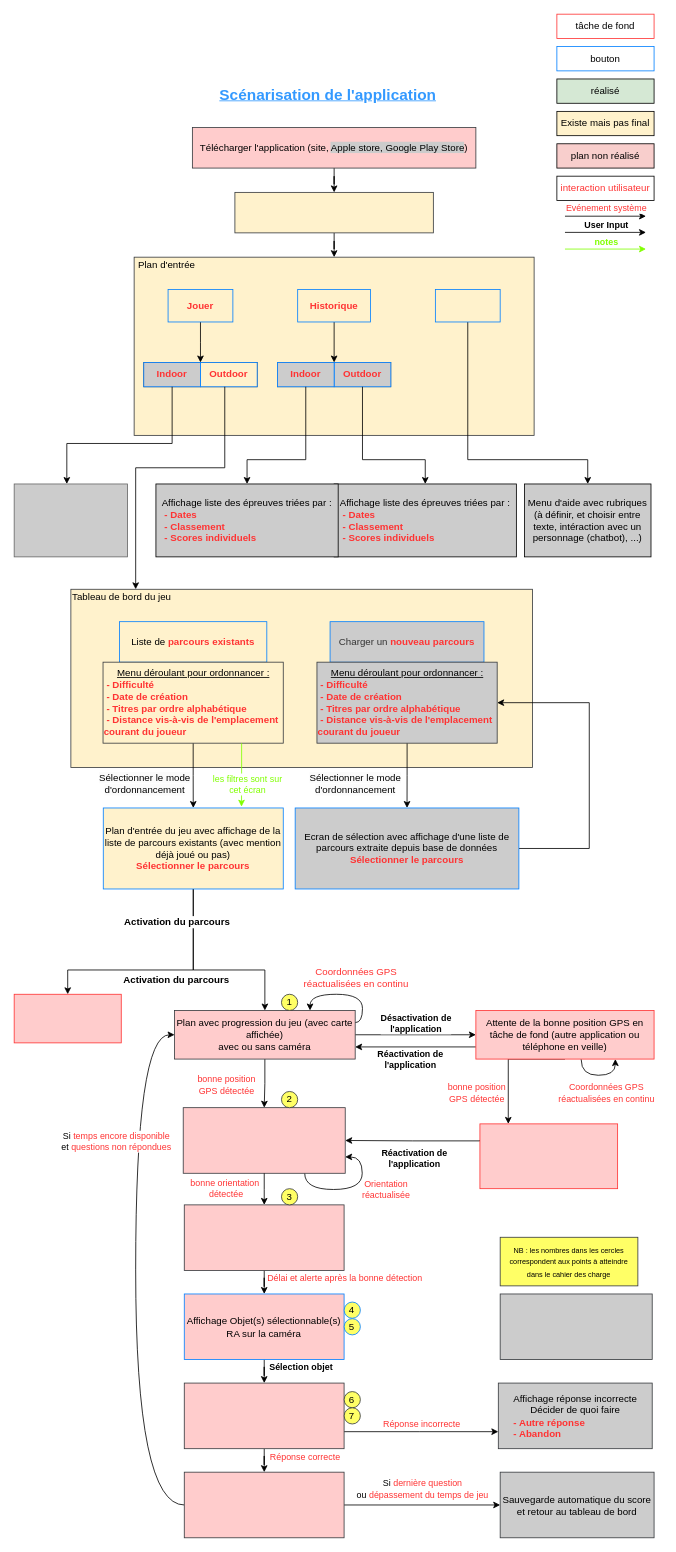
Image size: 676x1552. Some labels were removed from this diagram. Here are the shapes that lost their labels. From the top down, the centre of each, then its label:
At (333,212): "Lancer l'application depuis l'icône installée".
At (467,305): "Aide".
At (70,520): "Scénario développé dans un précédent TB, mis de côté pour le moment".
At (67,1018): "Déclenchement automatique du Timer".
At (263,1140): "Ecran du jeu avec observation de l'orientation via la caméra".
At (548,1156): "Alerte pendant environ 3s (son/vibration) automatique si position GPS détectée".
At (263,1237): "Ecran du jeu avec orientation correcte détectée".
At (575,1326): "Communication avec les autres joueurs".
At (263,1415): "Affichage question avec mode de saisie spécifique au type de question".
At (263,1504): "Affichage réponse correcte".
